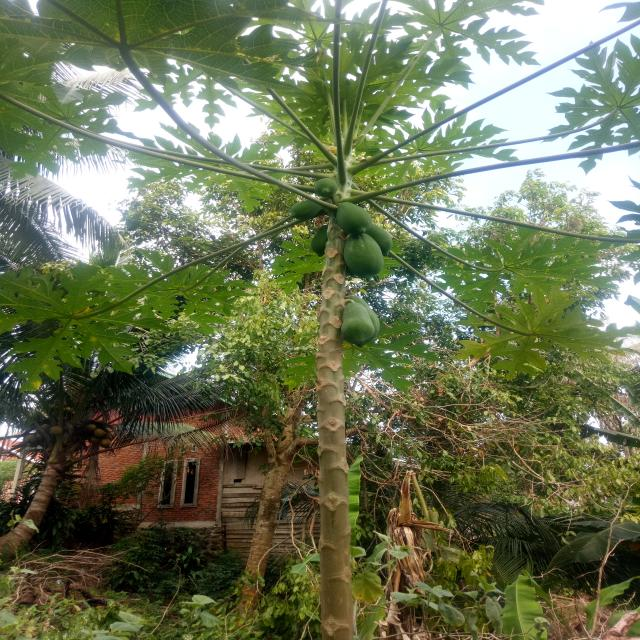Pepaya unrippen: (340, 296, 386, 343), (345, 235, 383, 275), (338, 202, 367, 230)
